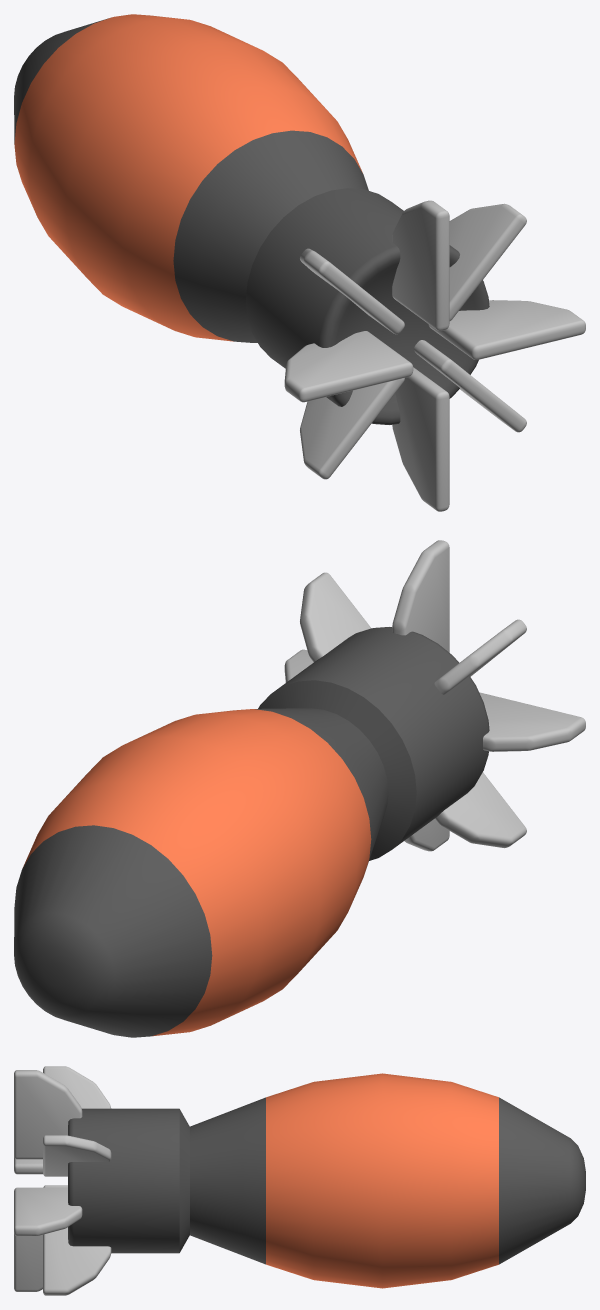
File: rocketbullet.fbx
3 views of the same model, one above another, from view 1: azimuth 30°, elevation 25°; view 2: azimuth 150°, elevation 25°; view 3: azimuth 270°, elevation 25° (orthographic). The views are drawn at different scales.
Parts seen in each view (by area): view 1: Cylinder; view 2: Cylinder; view 3: Cylinder.
Boxes of the visible parts, x1,y1,x2,y2 form: Cylinder: [14, 14, 585, 511]; Cylinder: [14, 540, 585, 1037]; Cylinder: [14, 1066, 585, 1295].
Bounding box in the file's own units: 3.2 × 7.54 × 3.2.
